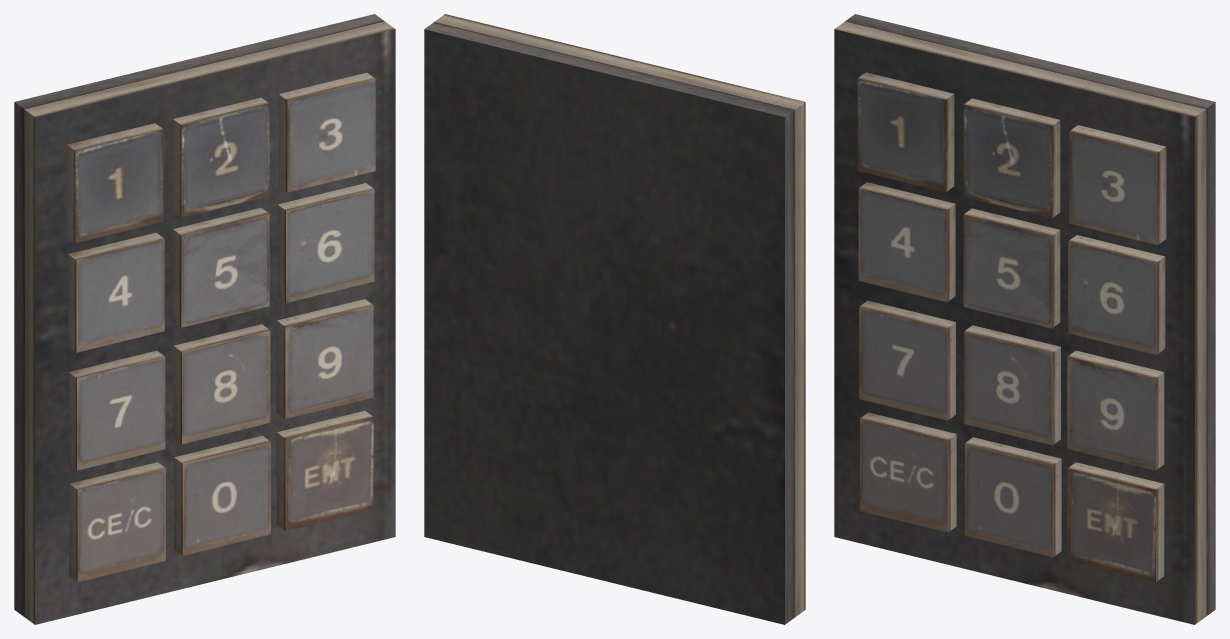
File: Blender_LowPolyKeypad.fbx
3 views of the same model, side by side, from view 1: azimuth 30°, elevation 25°; view 2: azimuth 150°, elevation 25°; view 3: azimuth 330°, elevation 25° (orthographic).
Parts seen in each view (by area): view 1: Cube.013, Cube.003, Cube.005, Cube.008, Cube.001, Cube.007, Cube.010, Cube.004, Cube.009, Cube.012, Cube.002, Cube.006 (+1 smaller); view 2: Cube.013; view 3: Cube.013, Cube.002, Cube.006, Cube.005, Cube.001, Cube.009, Cube.003, Cube.004, Cube.010, Cube.012, Cube.008, Cube.007 (+1 smaller).
Part boxes in pixels (x1,y1,x2,y2): Cube.013: [14, 14, 395, 624]; Cube.003: [278, 72, 375, 192]; Cube.005: [172, 207, 269, 327]; Cube.008: [173, 324, 270, 444]; Cube.001: [66, 123, 163, 243]; Cube.007: [68, 350, 165, 470]; Cube.010: [276, 411, 373, 530]; Cube.004: [277, 183, 374, 302]; Cube.009: [276, 299, 373, 418]; Cube.012: [69, 462, 165, 582]; Cube.002: [173, 97, 269, 217]; Cube.006: [68, 232, 164, 352]; Cube.013: [424, 14, 805, 624]; Cube.013: [834, 14, 1215, 624]; Cube.002: [963, 98, 1060, 218]; Cube.006: [858, 182, 955, 302]; Cube.005: [963, 208, 1060, 328]; Cube.001: [857, 72, 954, 192]; Cube.009: [1067, 350, 1164, 470]; Cube.003: [1069, 125, 1166, 244]; Cube.004: [1068, 235, 1165, 354]; Cube.010: [1067, 462, 1164, 582]; Cube.012: [860, 412, 956, 532]; Cube.008: [964, 325, 1060, 445]; Cube.007: [859, 300, 955, 420].
Bounding box in the file's own units: 408 × 549 × 57.37.
Materials: 13 (13 with a texture image).
